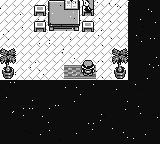leer: (64, 0, 79, 10)
main: (80, 60, 96, 77)
no-caminable: (1, 0, 160, 143), (49, 0, 79, 31), (112, 48, 128, 80), (1, 48, 16, 79)
npc: (82, 0, 94, 13)
puerta: (60, 65, 99, 80)
